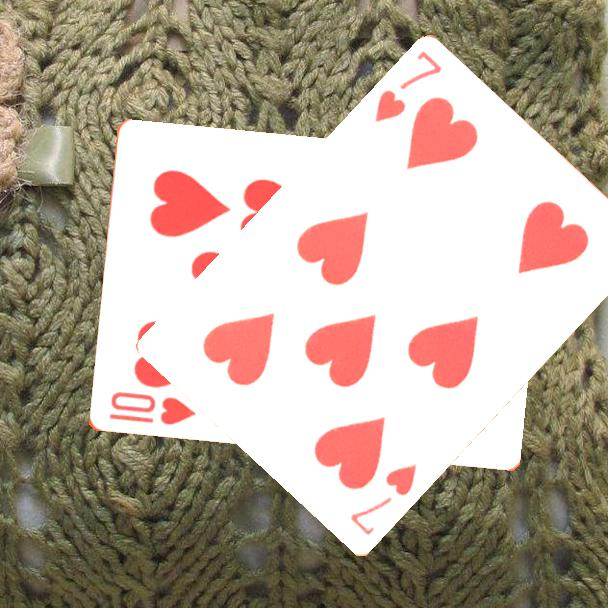h07: (371, 48, 445, 126), (347, 461, 420, 539)
h10: (105, 388, 198, 428)
